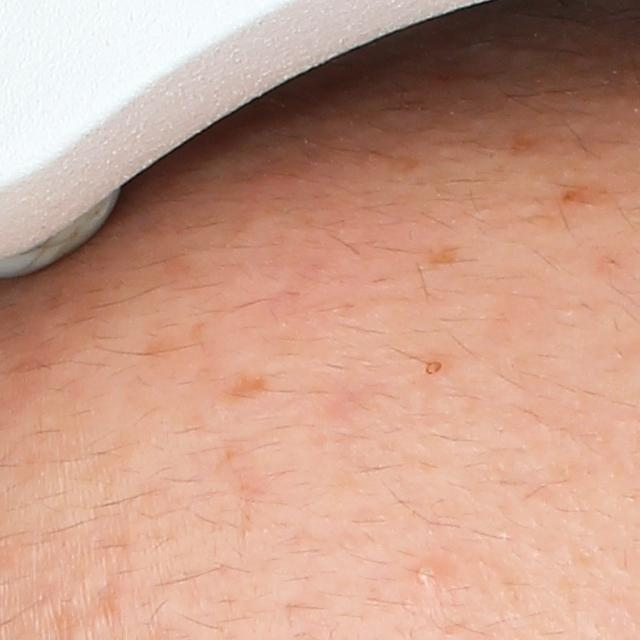comedo: (420, 357, 444, 377)
